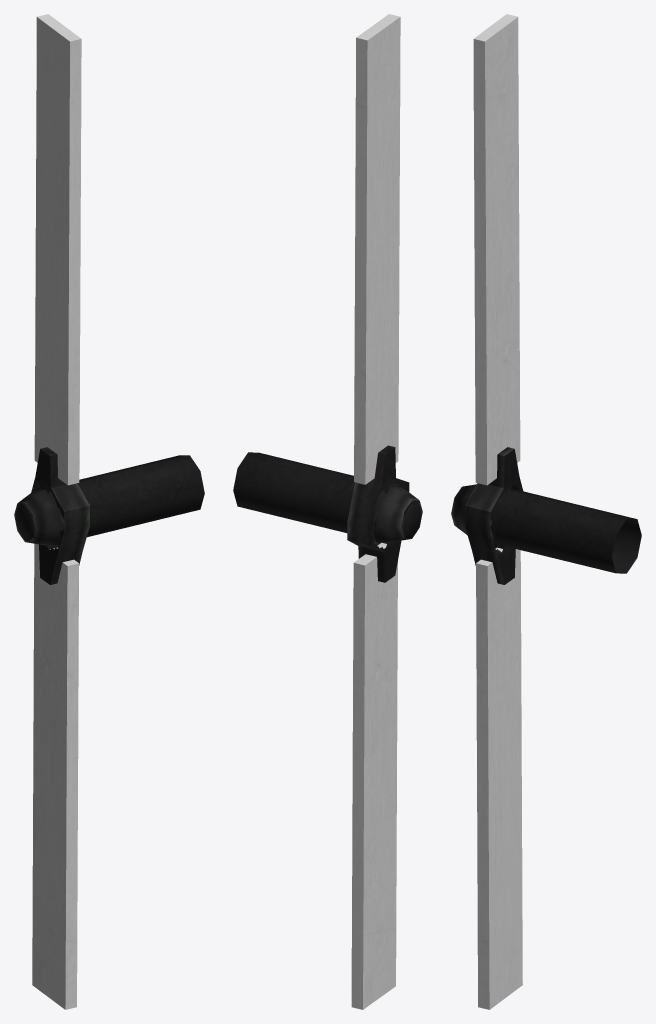
Rendered from tail_rotor.obj.
3 renders of one model, left to right at view 1: azimuth 30°, elevation 25°; view 2: azimuth 150°, elevation 25°; view 3: azimuth 330°, elevation 25°, orthographic.
Bounding box in the file's own units: 0.3799 × 2.14 × 0.1566.
2 materials, 2 textured.
